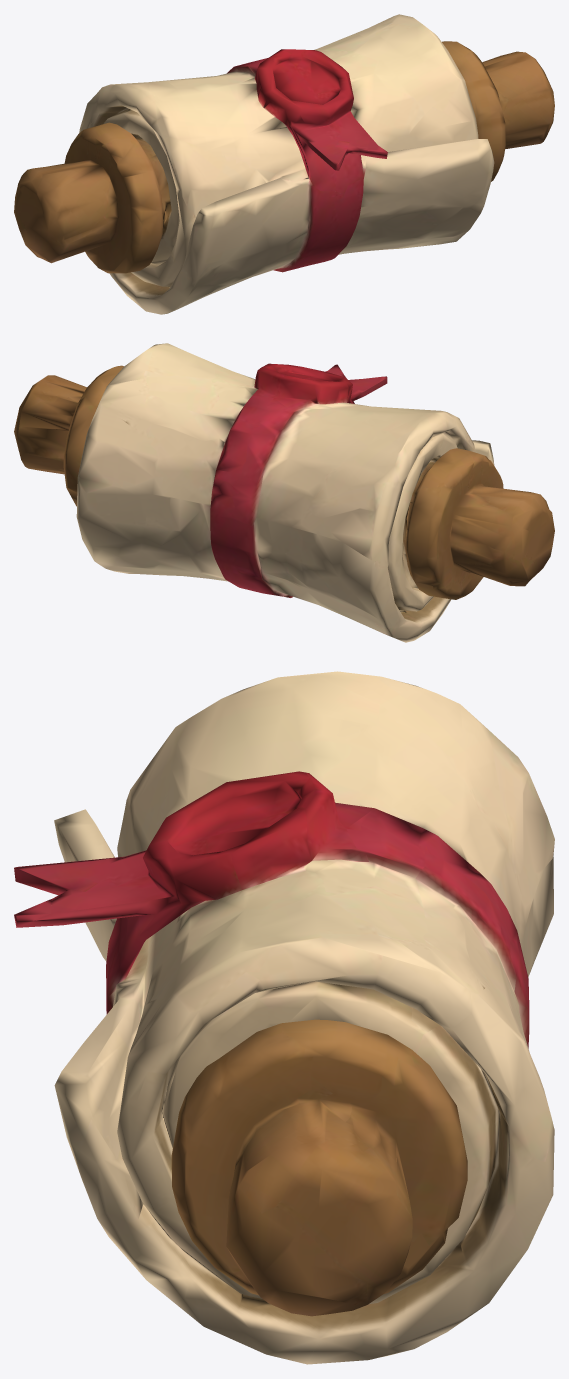
File: loot_scroll-Btu8l9nU.glb
3 views of the same model, one above another, from view 1: azimuth 30°, elevation 25°; view 2: azimuth 150°, elevation 25°; view 3: azimuth 270°, elevation 25° (orthographic). The views are drawn at different scales.
Visible parts, largest first — view 1: tripo_node_160ed66a-3a08-4a73-b2ed-b8ad3068e5f0; view 2: tripo_node_160ed66a-3a08-4a73-b2ed-b8ad3068e5f0; view 3: tripo_node_160ed66a-3a08-4a73-b2ed-b8ad3068e5f0.
Part boxes in pixels (bbox=[...]): tripo_node_160ed66a-3a08-4a73-b2ed-b8ad3068e5f0: bbox=[14, 14, 554, 314]; tripo_node_160ed66a-3a08-4a73-b2ed-b8ad3068e5f0: bbox=[14, 343, 554, 642]; tripo_node_160ed66a-3a08-4a73-b2ed-b8ad3068e5f0: bbox=[14, 671, 554, 1364].
Bounding box in the file's own units: 0.85 × 0.3594 × 0.3999.
1 material, 1 textured.
